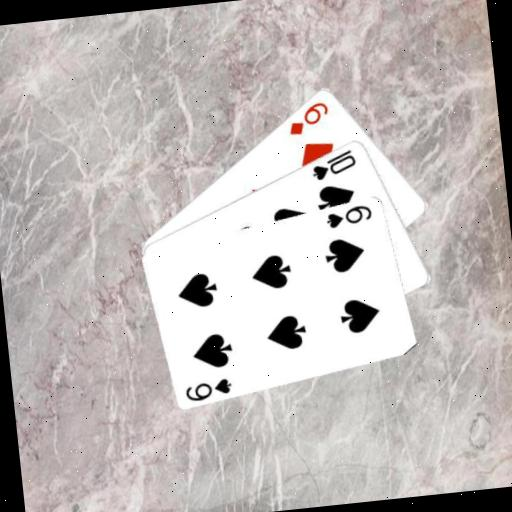10S: (308, 146, 360, 183)
6D: (284, 98, 333, 138)
6S: (322, 200, 375, 230), (182, 374, 235, 403)
